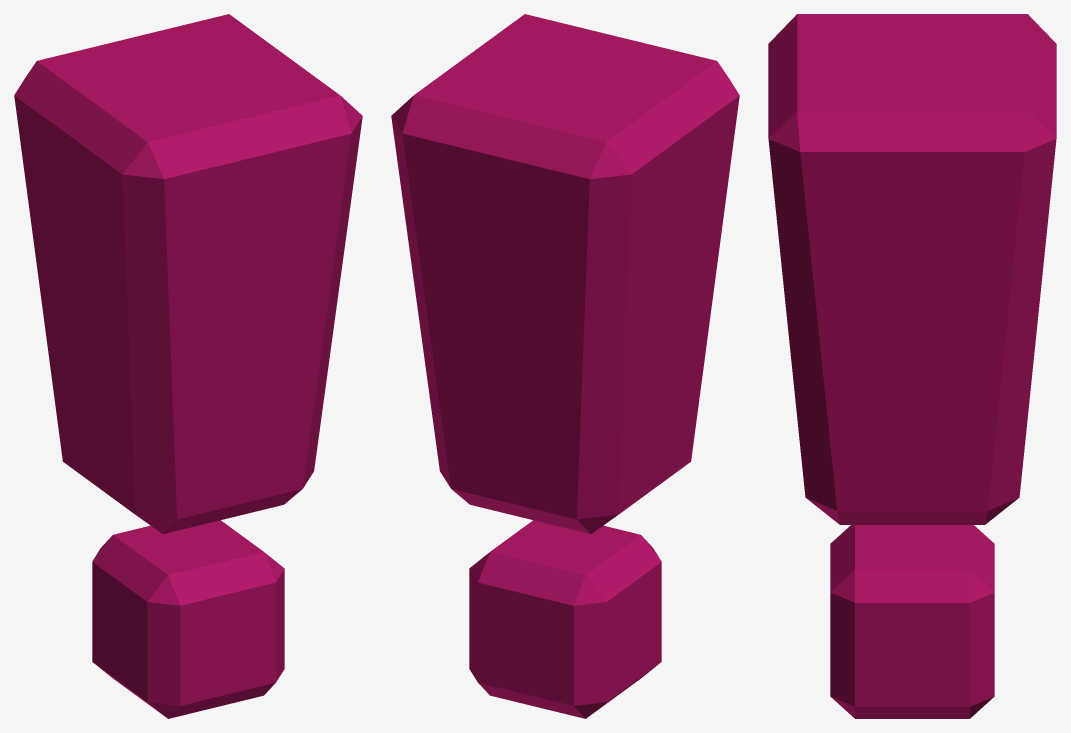
File: lowpolyisland_visualClue.fbx
3 renders of one model, left to right at view 1: azimuth 30°, elevation 25°; view 2: azimuth 150°, elevation 25°; view 3: azimuth 270°, elevation 25°, orthographic. The views are drawn at different scales.
Parts seen in each view (by area): view 1: Cube.001; view 2: Cube.001; view 3: Cube.001.
Boxes of the visible parts, x1=… form: Cube.001: x1=14, y1=14, x2=362, y2=718; Cube.001: x1=391, y1=14, x2=739, y2=718; Cube.001: x1=768, y1=14, x2=1056, y2=718.
Size of the model in its own units: 276 by 669 by 276.
